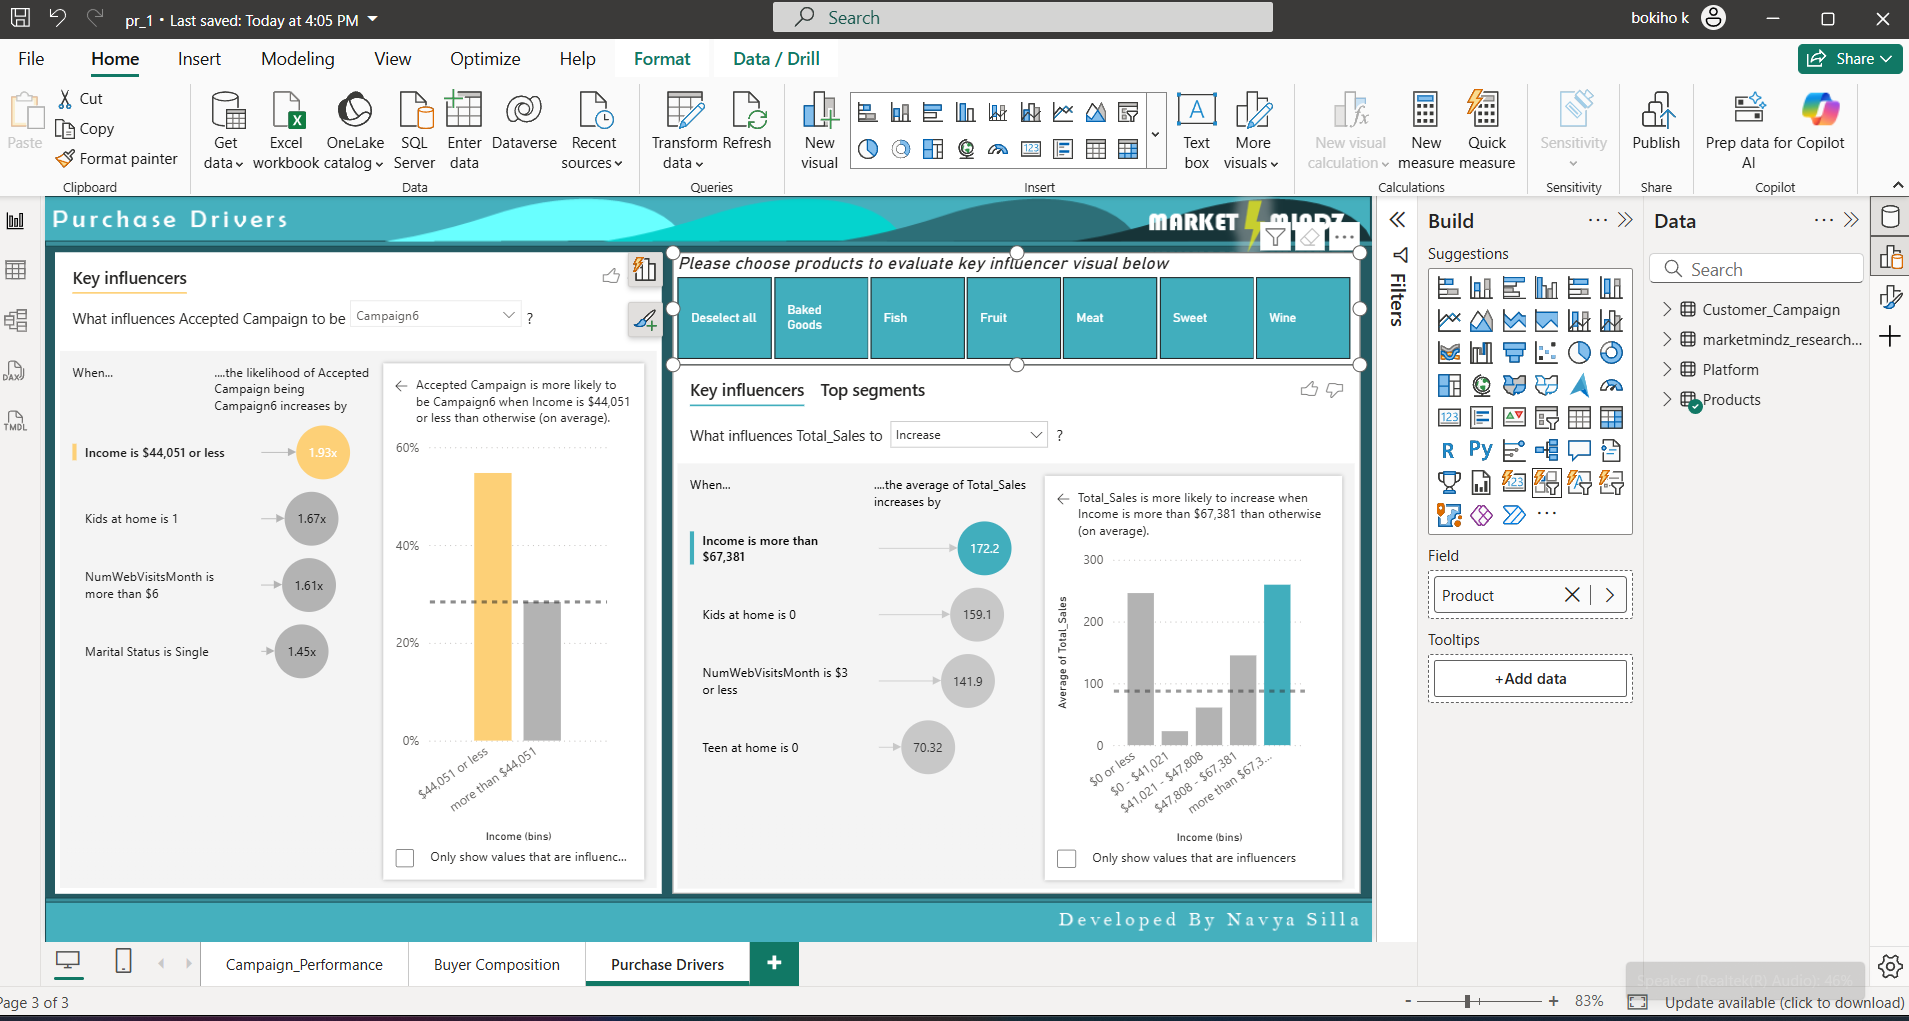

What the dashboard file says about the page in this screenshot:
{"tool":"powerbi","page":{"name":"Purchase Drivers","canvas":[1280,720],"ordinal":2},"visuals":[{"type":"keyDriversVisual","fields":{"Target":["Customer_Campaign.Campaign"],"ExplainBy":["marketmindz_research_data.Age","marketmindz_research_data. Income ","marketmindz_research_data.Country","marketmindz_research_data.Education","marketmindz_research_data.Marital_Status","marketmindz_research_data.Kidhome","marketmindz_research_data.Teenhome","marketmindz_research_data.NumWebVisitsMonth"]},"box":[10.1,54.8,585.8,618.9],"z":0},{"type":"keyDriversVisual","fields":{"ExplainBy":["marketmindz_research_data.Age","marketmindz_research_data. Income ","marketmindz_research_data.Country","marketmindz_research_data.Education","marketmindz_research_data.Marital_Status","marketmindz_research_data.Kidhome","marketmindz_research_data.Teenhome","marketmindz_research_data.NumWebVisitsMonth"],"Target":["Products.Total_Sales"]},"box":[606,163,663.7,510.7],"z":1000},{"type":"advancedSlicerVisual","title":"Please choose products to evaluate key influencer visual below","fields":{"Values":["Products.Product"]},"box":[606,54.8,663.7,108.2],"z":2000}]}

Visuals, with their boxes on the page's 1280x720 design canvas (x1, y1, x2, y2). These are canvas units, not pixel positions in the 1909x1021 screenshot, which may show the page scaled, cropped or inside an application window:
keyDriversVisual - Customer_Campaign.Campaign x marketmindz_research_data.Age: [x1=10, y1=55, x2=596, y2=674]
keyDriversVisual - marketmindz_research_data.Age x marketmindz_research_data. Income : [x1=606, y1=163, x2=1270, y2=674]
"Please choose products to evaluate key influencer visual below" advancedSlicerVisual: [x1=606, y1=55, x2=1270, y2=163]
